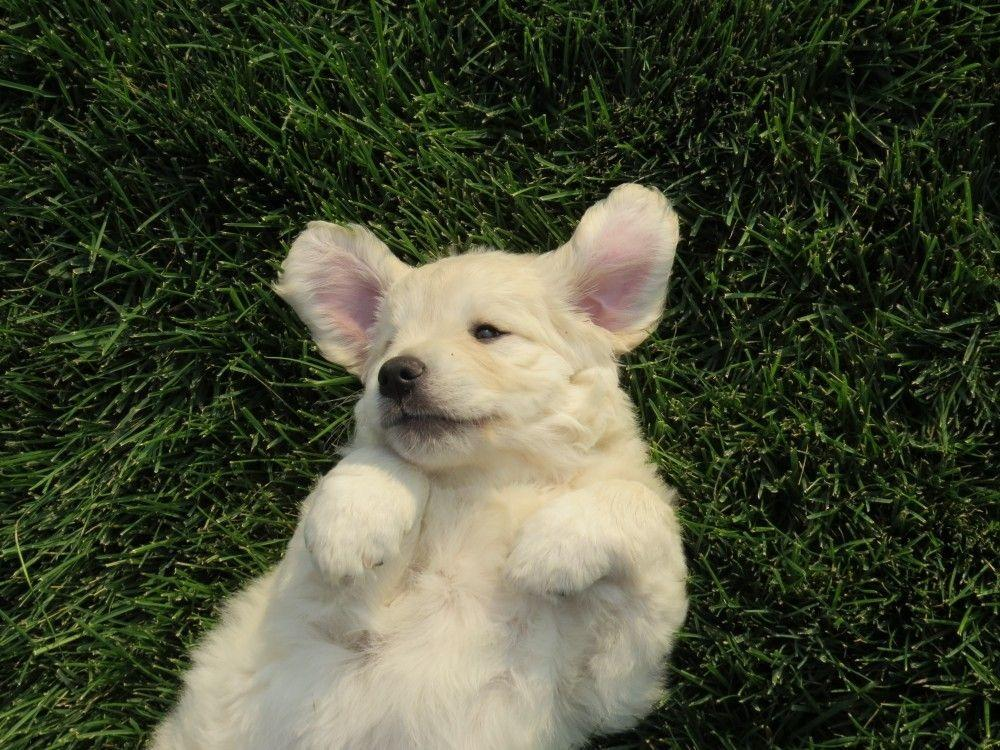puppy-dog: (144, 183, 693, 750)
